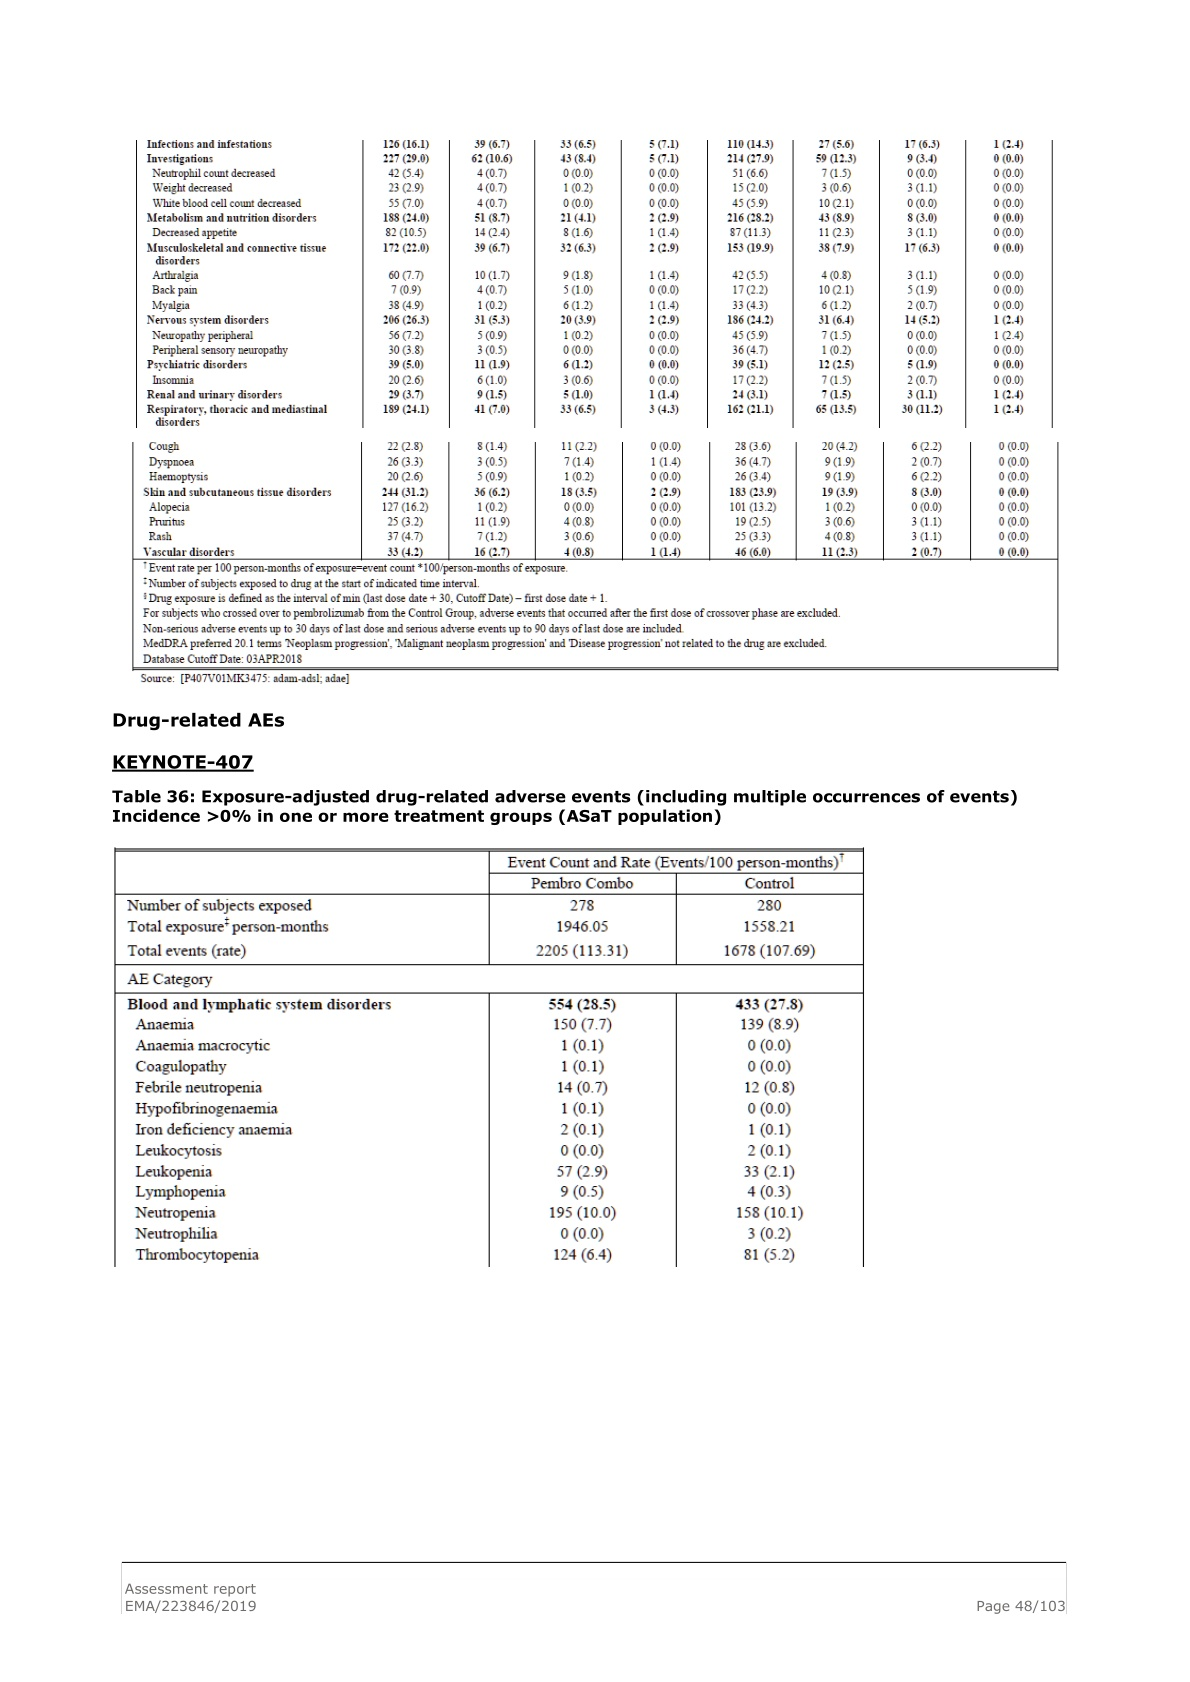partial_lined: (135, 133, 1059, 562)
partial_lined_merged_cells: (113, 846, 867, 1274)
